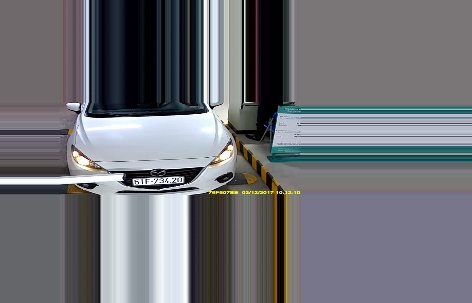plate: (134, 175, 185, 183)
